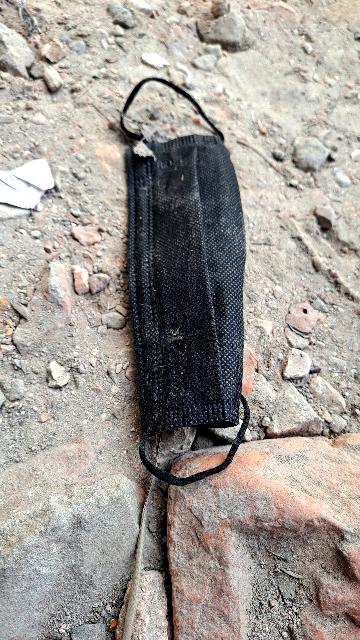mask: (121, 128, 260, 440)
